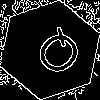Q: (25, 25, 88, 87)
